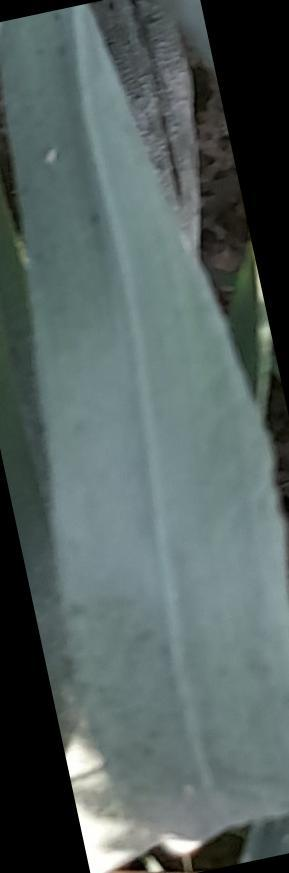Wheat: (68, 376, 243, 796), (31, 156, 162, 371), (13, 55, 103, 134)
